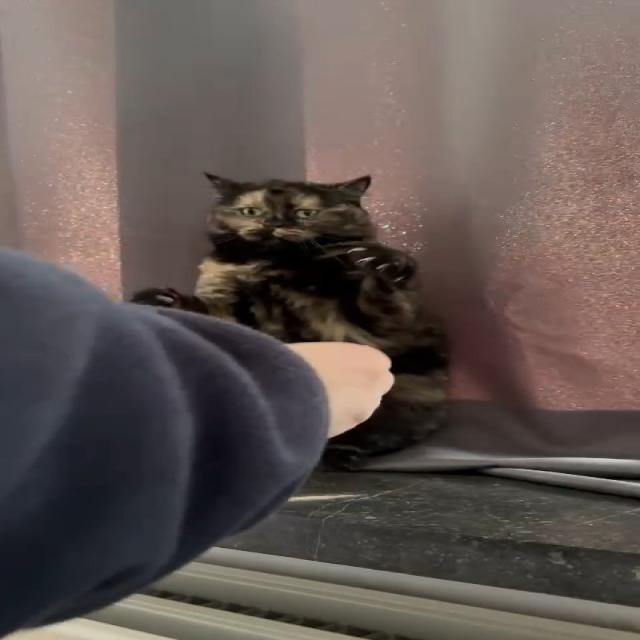authorized: (131, 171, 453, 470)
